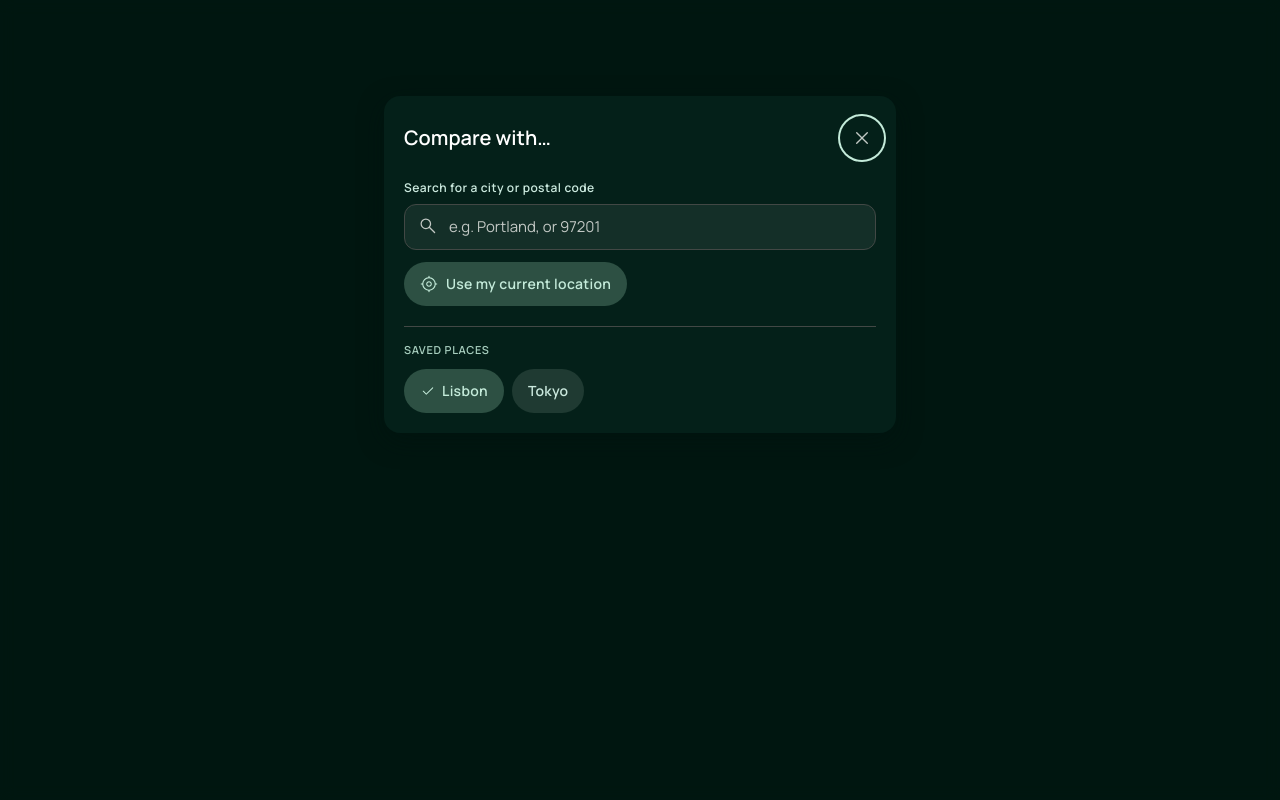
it: CompareLocationPicker › refuses the main place found by search, saying why
Step 1. Type "Portland" into the dropdown → (640, 227), box [404,204,876,250]
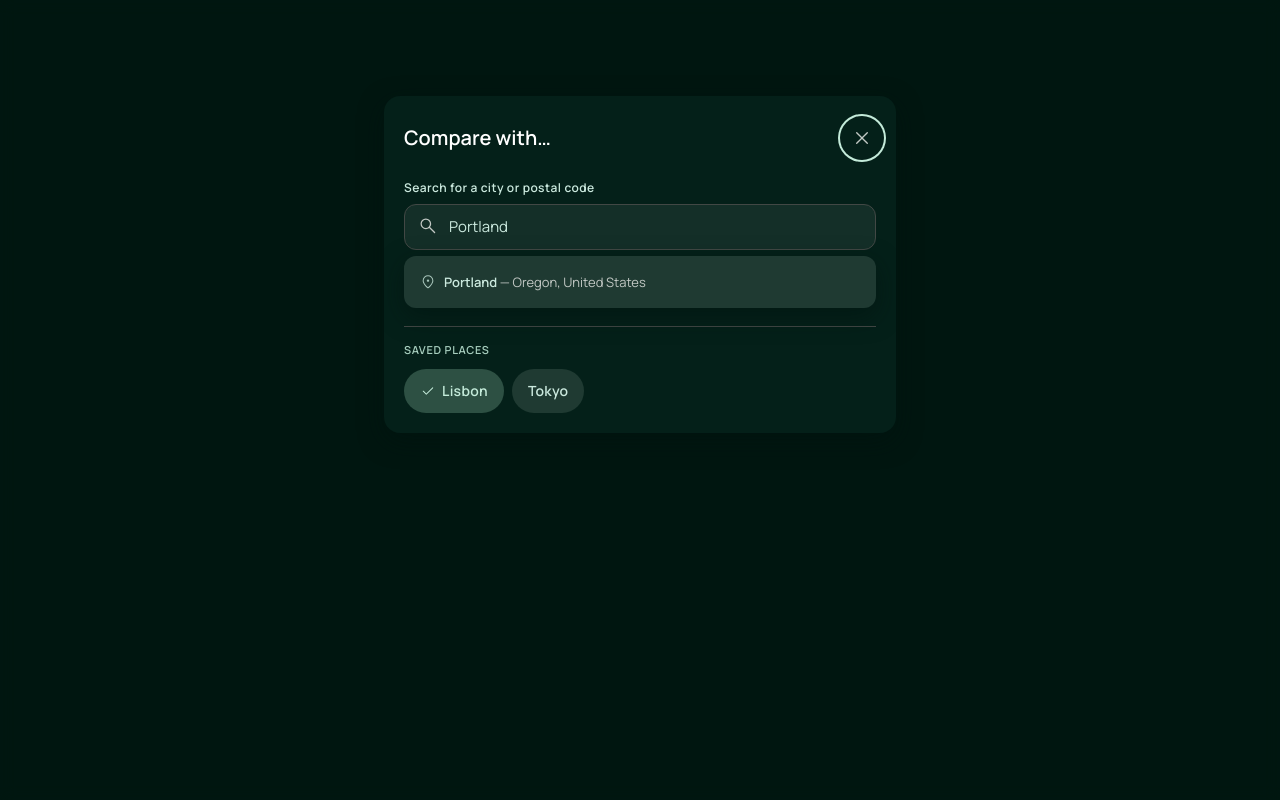
Step 2. Press the mouse on the option "Portland — Oregon, United States" → (533, 282), box [420,273,646,291]
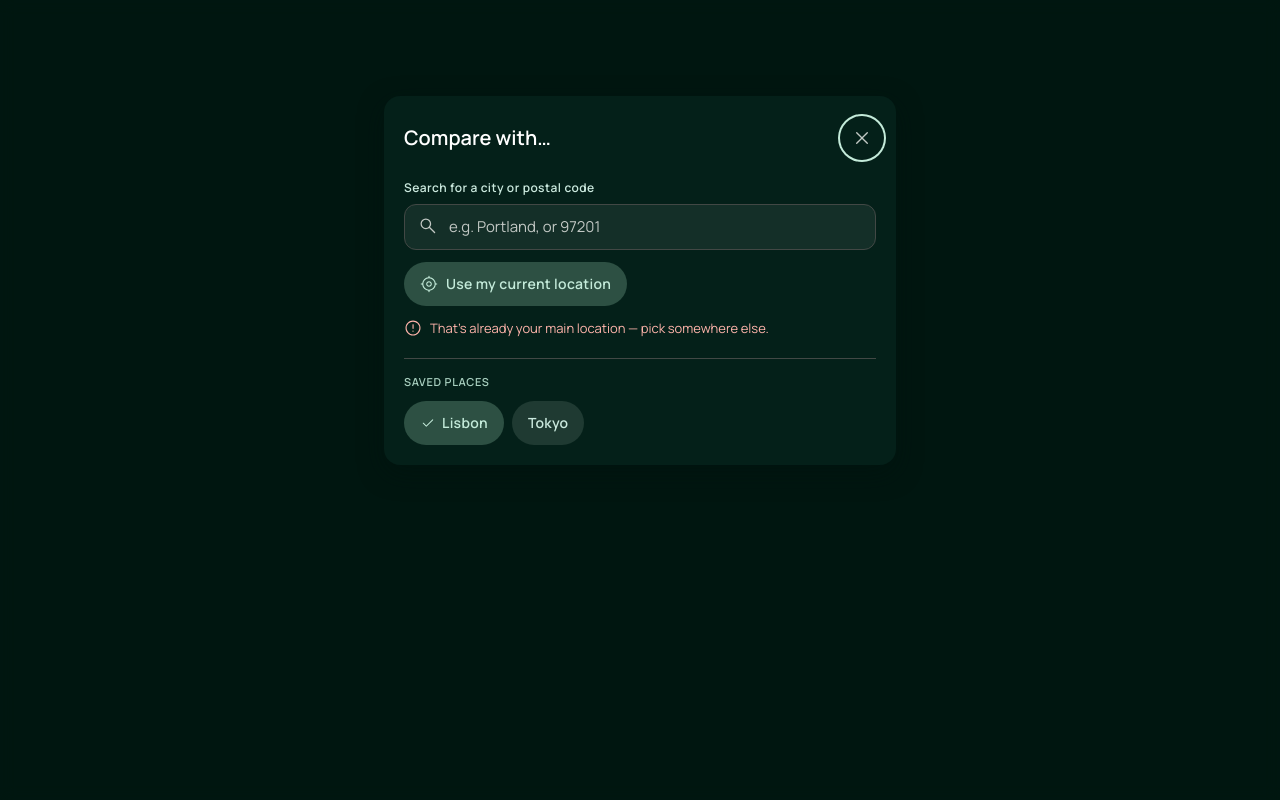
Check: the message reads "That’s already your main location — pick somewhere else.", box [430,319,769,337]
